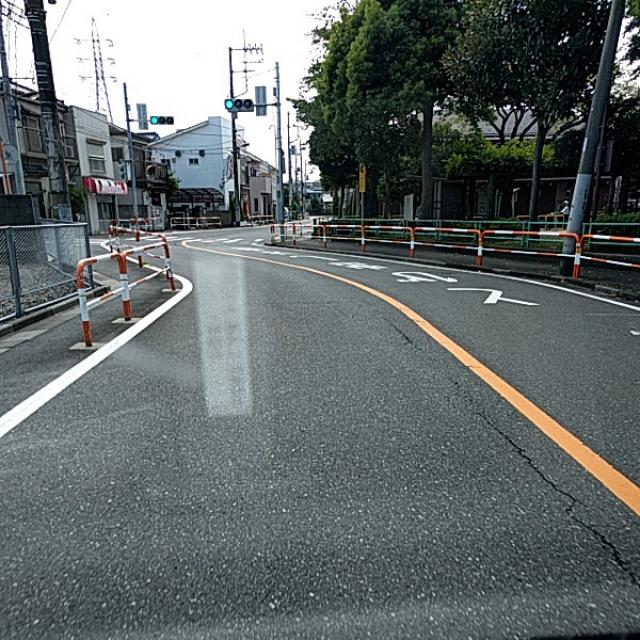pothole: (481, 394, 555, 501)
